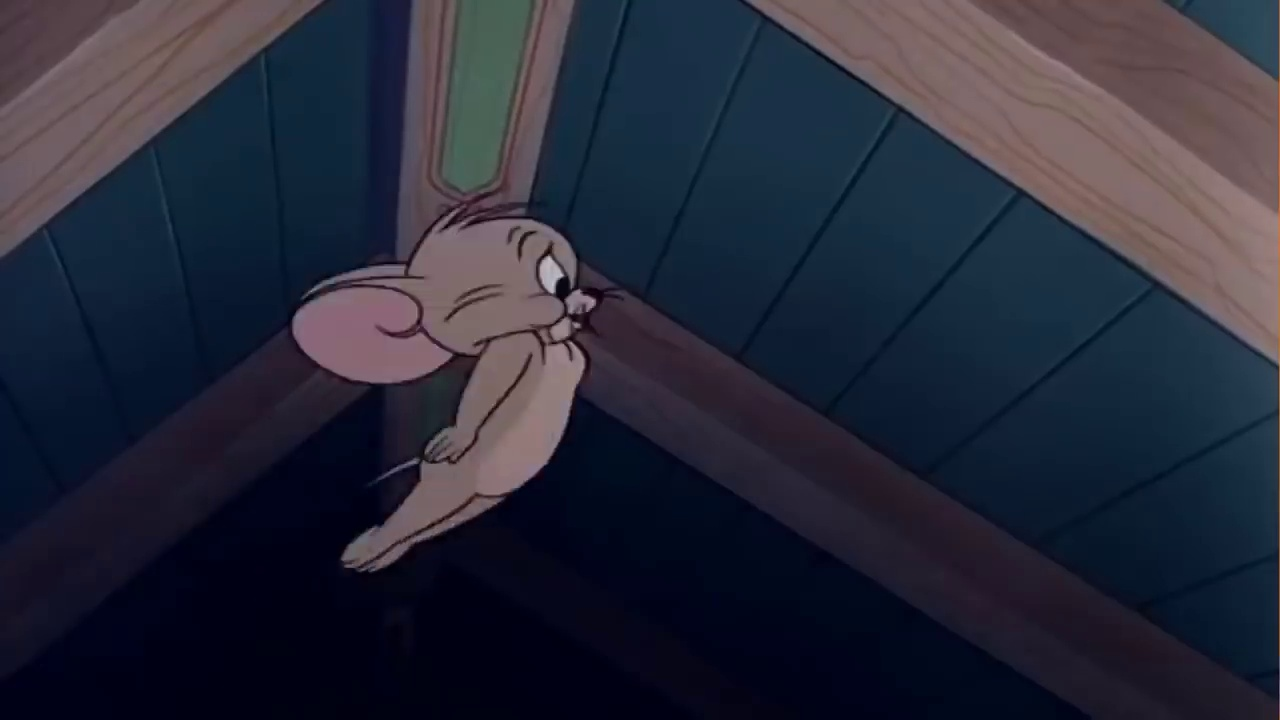face: (506, 219, 605, 343)
